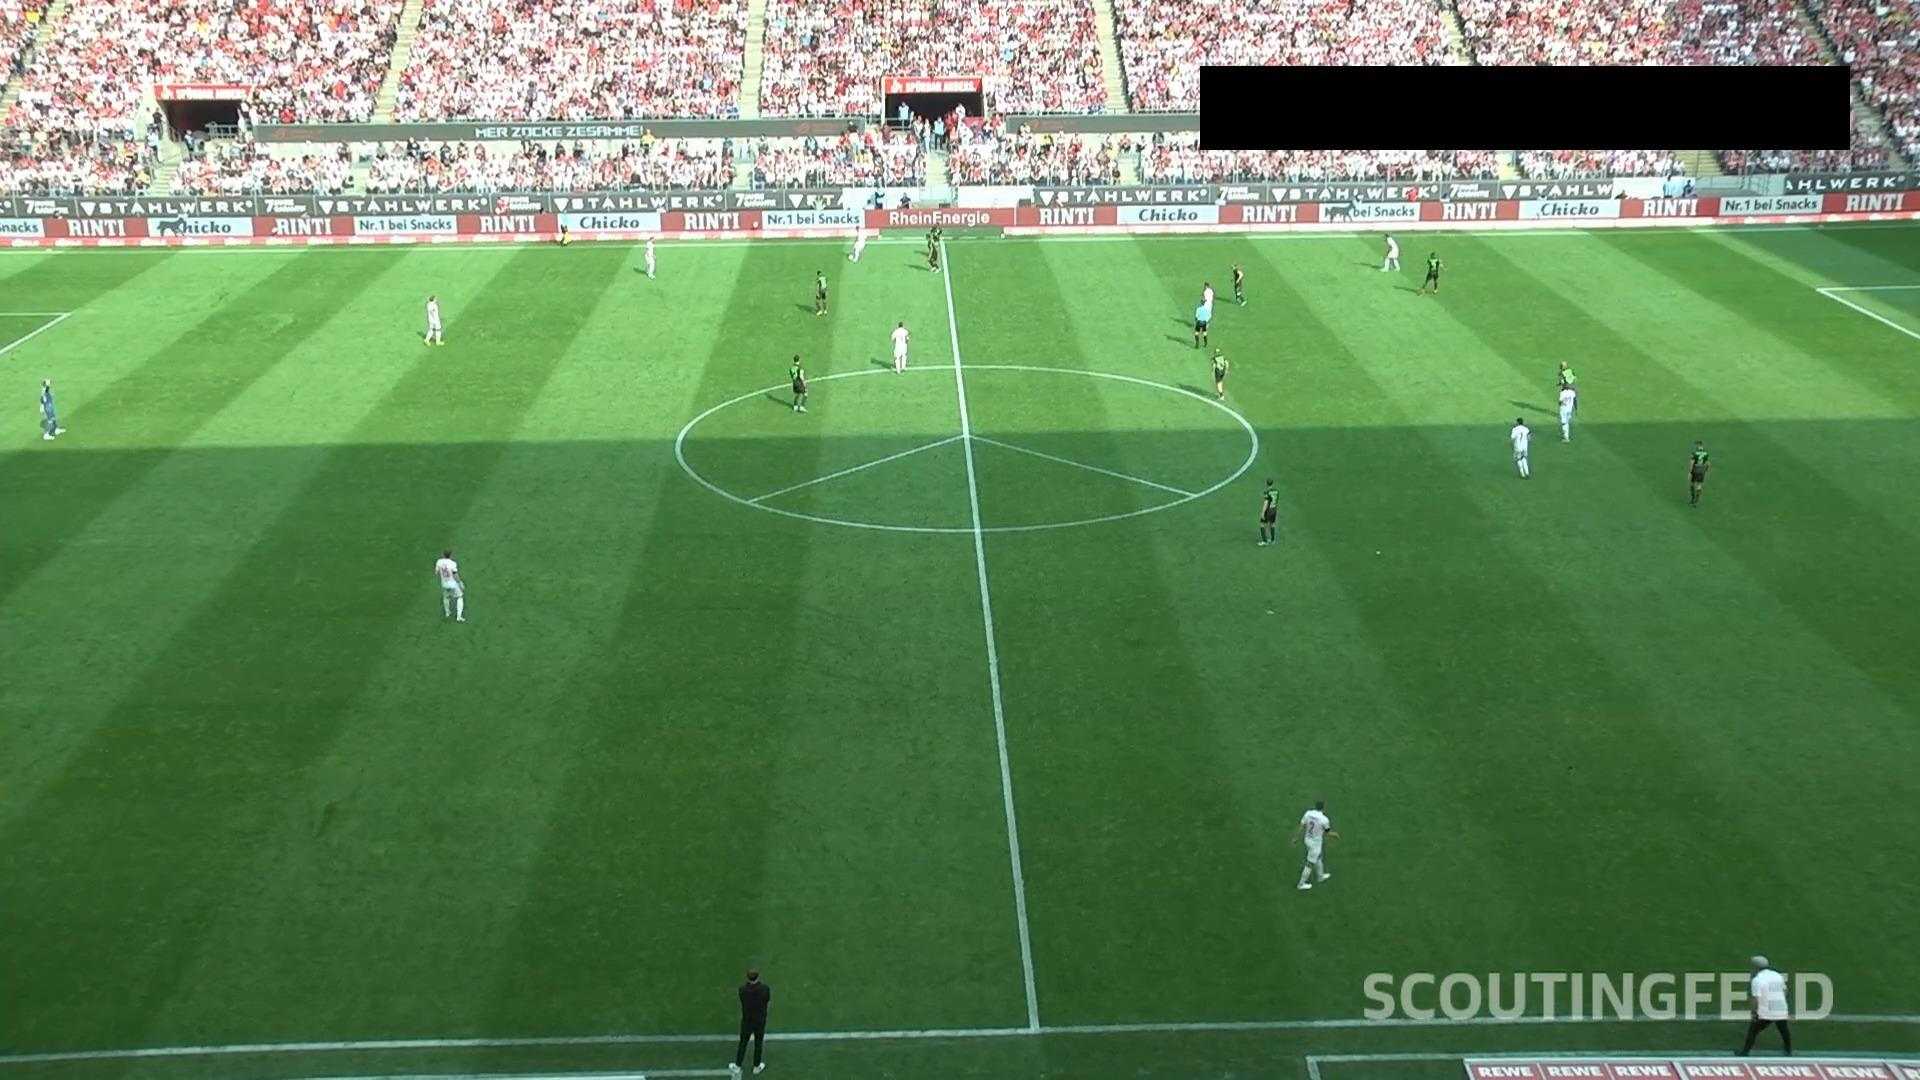ball: (848, 255, 855, 260)
